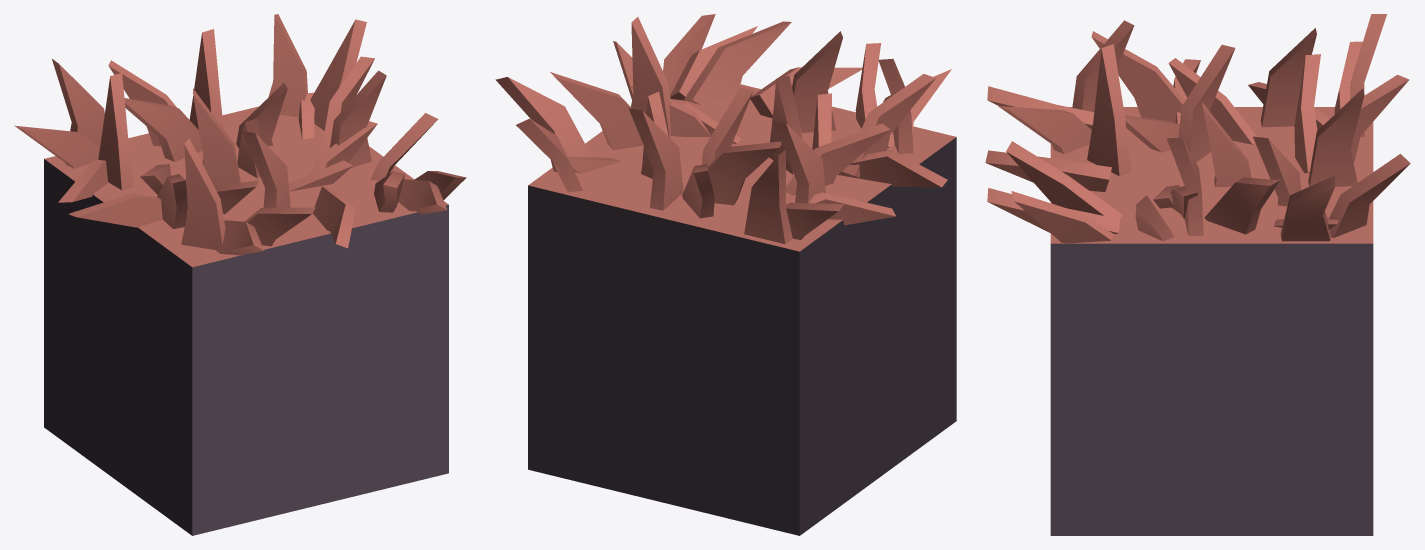
File: tile_exit.FBX
3 views of the same model, side by side, from view 1: azimuth 30°, elevation 25°; view 2: azimuth 150°, elevation 25°; view 3: azimuth 270°, elevation 25° (orthographic). The views are drawn at different scales.
Parts seen in each view (by area): view 1: tile_exit; view 2: tile_exit; view 3: tile_exit.
Boxes of the visible parts, <box> form: tile_exit: <box>14,14,466,535</box>; tile_exit: <box>495,14,956,535</box>; tile_exit: <box>985,14,1410,535</box>.
Bounding box in the file's own units: 55.29 × 53.46 × 51.87.
